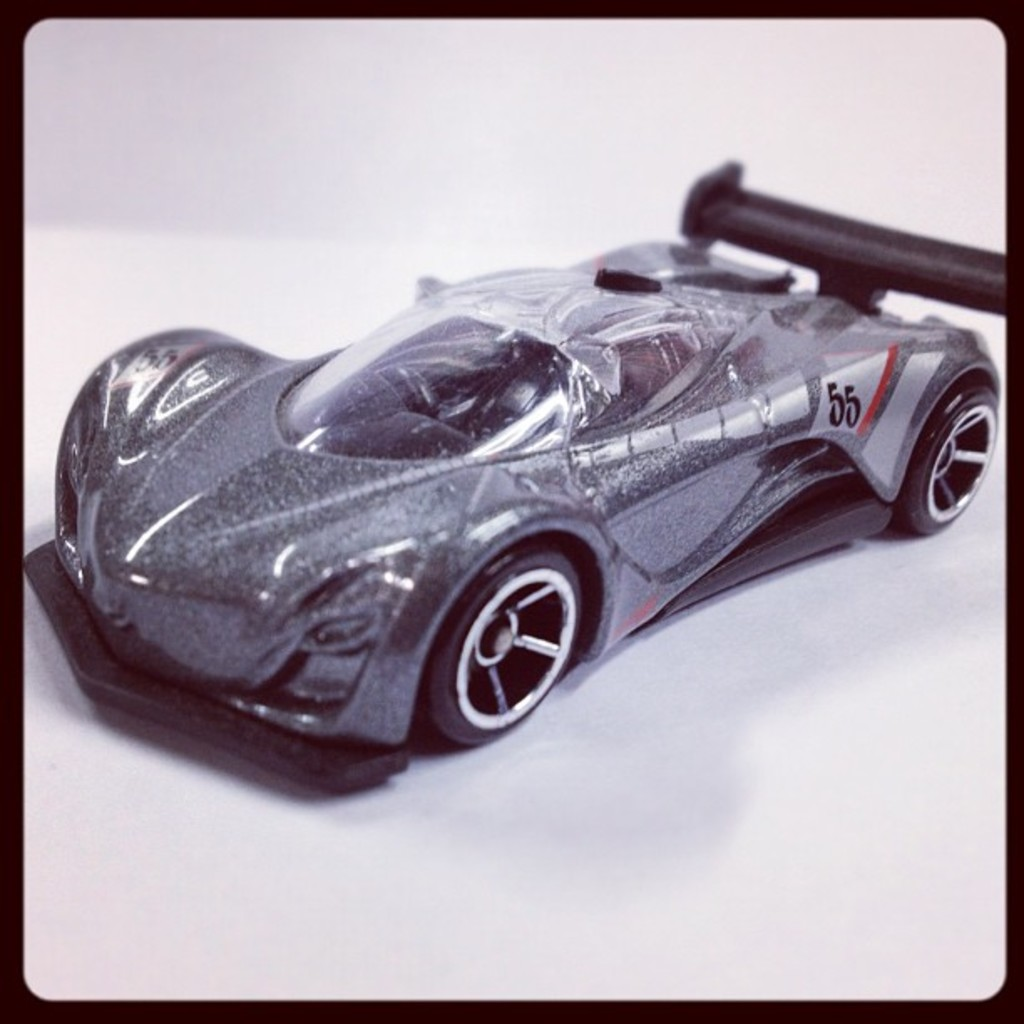Car: (51, 153, 1002, 793)
